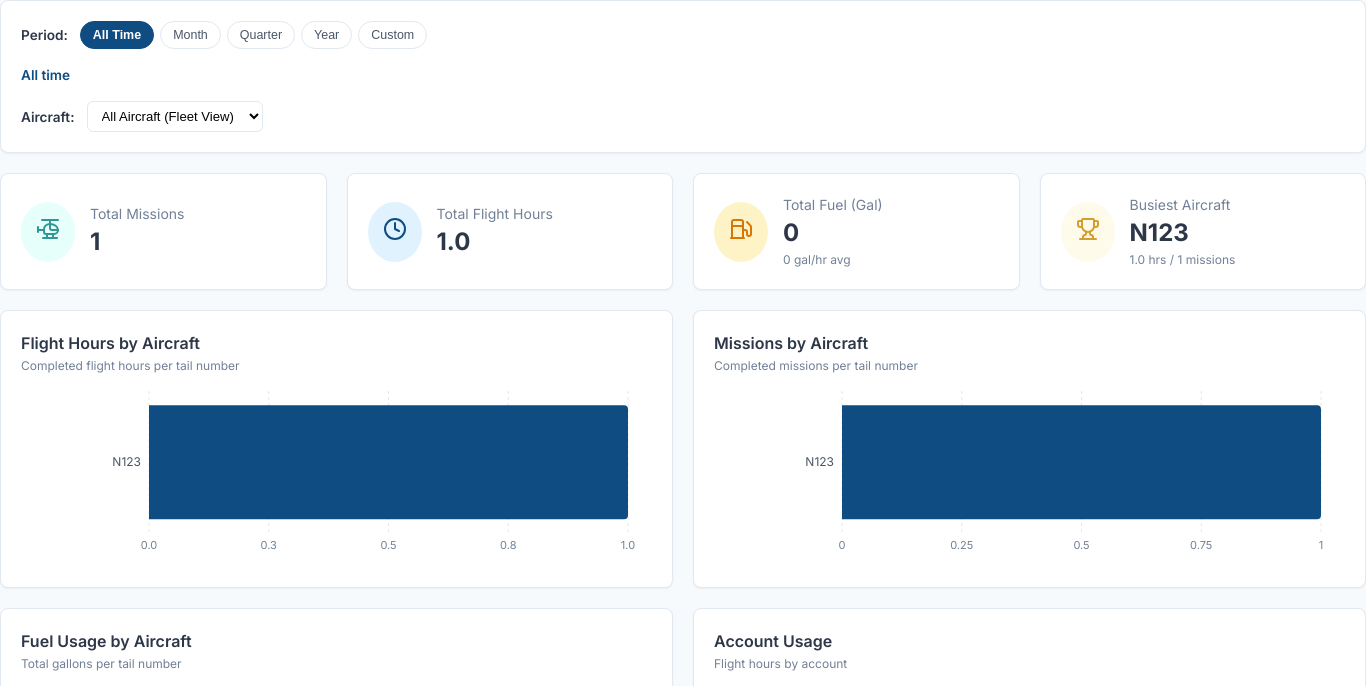
Test: AircraftUsageDashboard › shows empty state when no flights fall in the selected range
What coordinates should you click on to do the following:
click the button "Month"
I would click on:
 (190, 35)
Its box is [160,21,221,49].
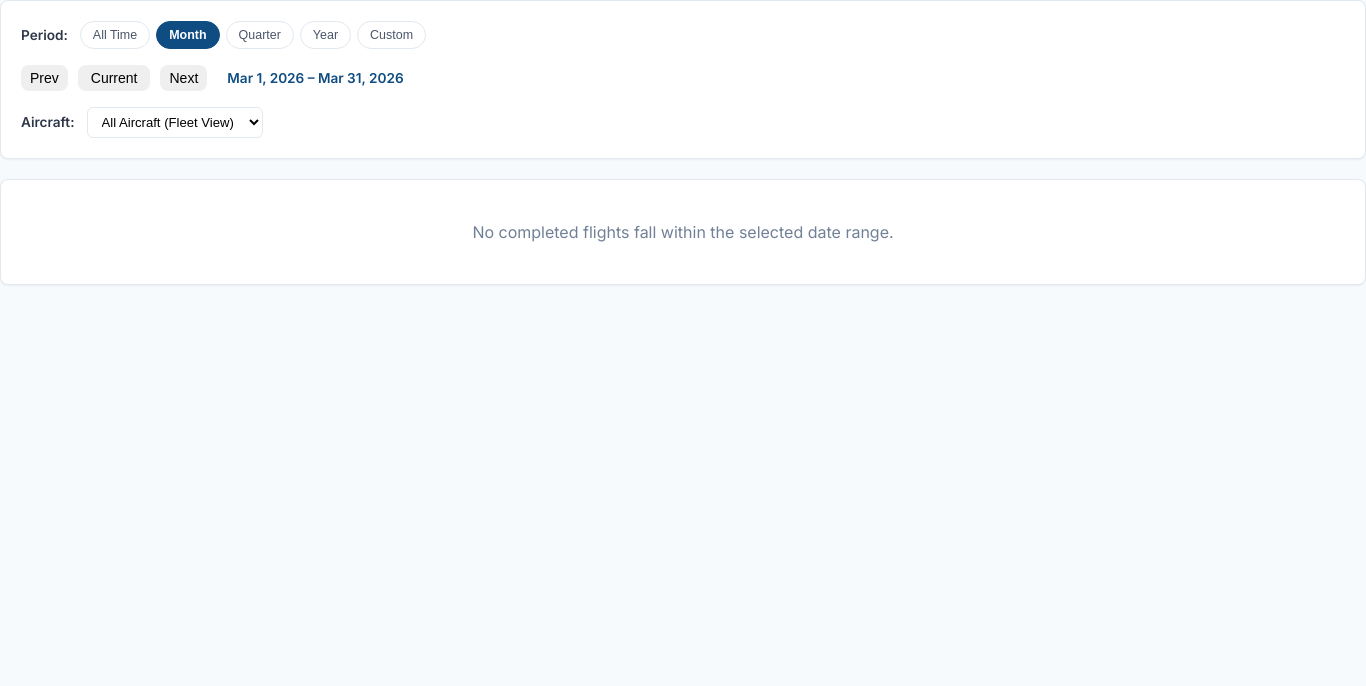
Result: the text "No completed flights fall within the selected date range." is shown at [0,179,1365,285]
